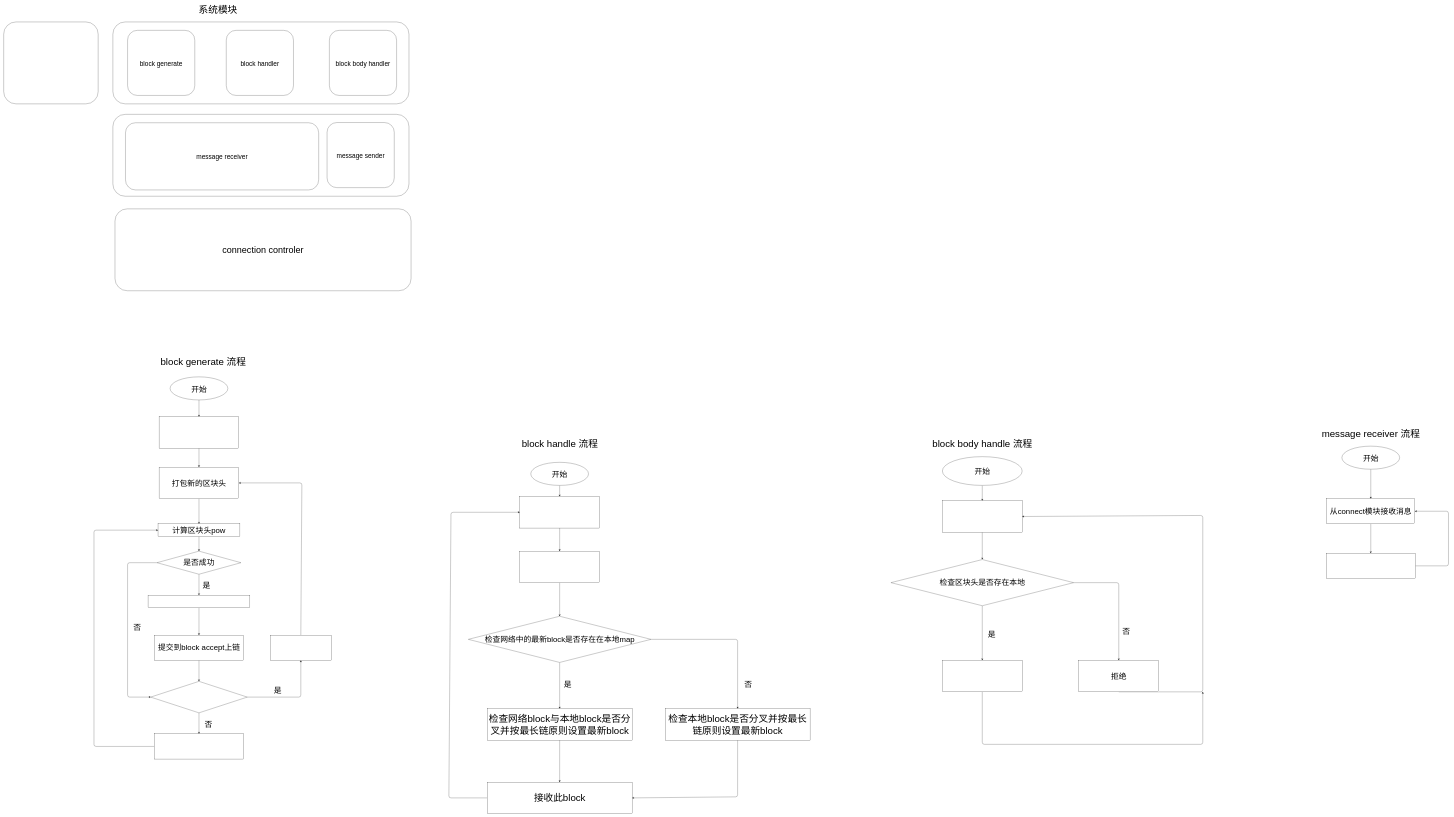
Image size: 1454x817. Some labels were removed from this diagram. The shapes that lost their labels are listed below. From the top down, each one's centre as x and y in pixels, then its label:
the point at 50,63: leveldb storage
the point at 199,432: 从leveldb初始化链
the point at 560,512: 从工作队列等待block
the point at 982,516: 从工作队列等待blockbody
the point at 560,567: 加入本地map缓存
the point at 1370,565: 根据信令调用不同的处理函数
the point at 199,601: 从交易队列取交易打包区块体
the point at 300,647: 舍弃区块
the point at 982,676: 接受并存到本地
the point at 198,697: 检查链是否已更新
the point at 199,746: 区块上链并扩散到网络中
